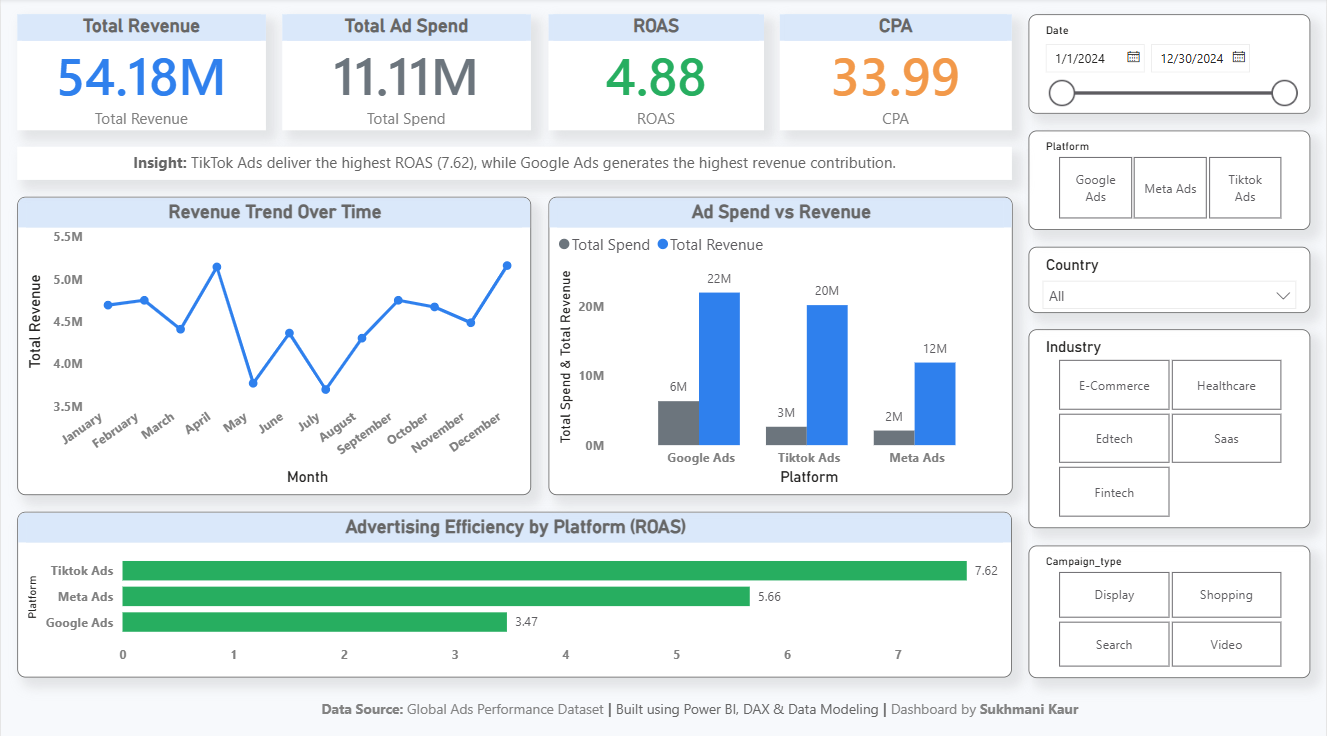

Layout of this report page (visuals, bound fields, positions):
{"tool":"powerbi","page":{"name":"Executive Overview","canvas":[1280,720],"ordinal":0},"visuals":[{"type":"card","title":"Total Revenue","fields":{"Values":["Fact_Ads_Performance.Total Revenue"]},"box":[16,16,240,112],"z":0},{"type":"card","title":"Total Ad Spend","fields":{"Values":["Fact_Ads_Performance.Total Spend"]},"box":[272,16,240,112],"z":1000},{"type":"card","title":"ROAS","fields":{"Values":["Fact_Ads_Performance.ROAS"]},"box":[528,16,208,112],"z":2000},{"type":"card","title":"CPA","fields":{"Values":["Fact_Ads_Performance.CPA_calculated"]},"box":[752,16,224,112],"z":3000},{"type":"lineChart","title":"Revenue Trend Over Time","fields":{"Y":["Fact_Ads_Performance.Total Revenue"],"Category":["dim_date.Month_Name"]},"box":[16,192,496,288],"z":4000},{"type":"clusteredBarChart","title":"Advertising Efficiency by Platform (ROAS)","fields":{"Category":["dim_platform.Platform"],"Y":["Fact_Ads_Performance.ROAS"]},"box":[16,496,960,160],"z":5000},{"type":"clusteredColumnChart","title":"Ad Spend vs Revenue","fields":{"Category":["dim_platform.Platform"],"Y":["Fact_Ads_Performance.Total Spend","Fact_Ads_Performance.Total Revenue"]},"box":[528,192,448,288],"z":6000},{"type":"slicer","fields":{"Values":["dim_campaign.Campaign_type"]},"box":[992,528,272,128],"z":7000},{"type":"slicer","fields":{"Values":["dim_industry.Industry"]},"box":[992,320,272,192],"z":8000},{"type":"slicer","fields":{"Values":["dim_country.Country"]},"box":[992,240,272,64],"z":9000},{"type":"slicer","fields":{"Values":["dim_platform.Platform"]},"box":[992,128,272,96],"z":10000},{"type":"slicer","fields":{"Values":["dim_date.Date"]},"box":[992,16,272,96],"z":11000},{"type":"textbox","box":[16,672,1248,32],"z":12000},{"type":"textbox","box":[16,144,960,32],"z":13000}]}

Visuals, with their boxes in screenshot pixels (x1, y1, x2, y2), scaled from the page's 1280x720 canvas onto the 1327x736 screenshot:
"Total Revenue" card: (17, 16, 265, 131)
"Total Ad Spend" card: (282, 16, 531, 131)
"ROAS" card: (547, 16, 763, 131)
"CPA" card: (780, 16, 1012, 131)
"Revenue Trend Over Time" lineChart: (17, 196, 531, 491)
"Advertising Efficiency by Platform (ROAS)" clusteredBarChart: (17, 507, 1012, 671)
"Ad Spend vs Revenue" clusteredColumnChart: (547, 196, 1012, 491)
slicer - dim_campaign.Campaign_type: (1028, 540, 1310, 671)
slicer - dim_industry.Industry: (1028, 327, 1310, 523)
slicer - dim_country.Country: (1028, 245, 1310, 311)
slicer - dim_platform.Platform: (1028, 131, 1310, 229)
slicer - dim_date.Date: (1028, 16, 1310, 114)
textbox: (17, 687, 1310, 720)
textbox: (17, 147, 1012, 180)
